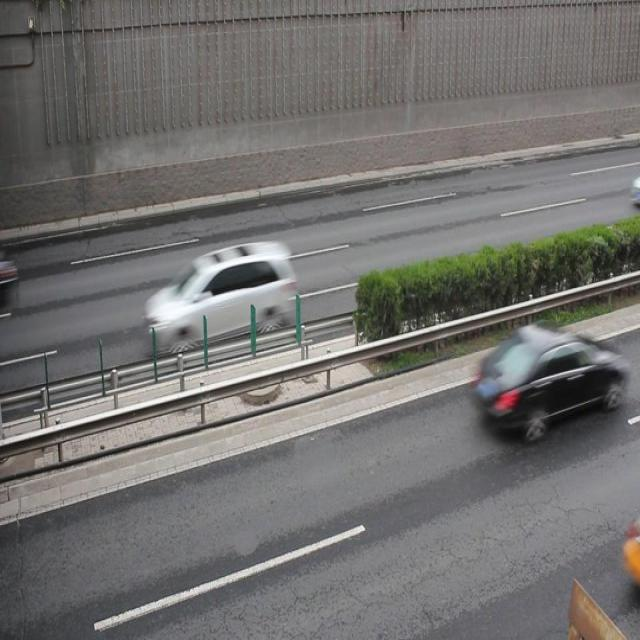car: (143, 245, 294, 354), (476, 326, 611, 438)
